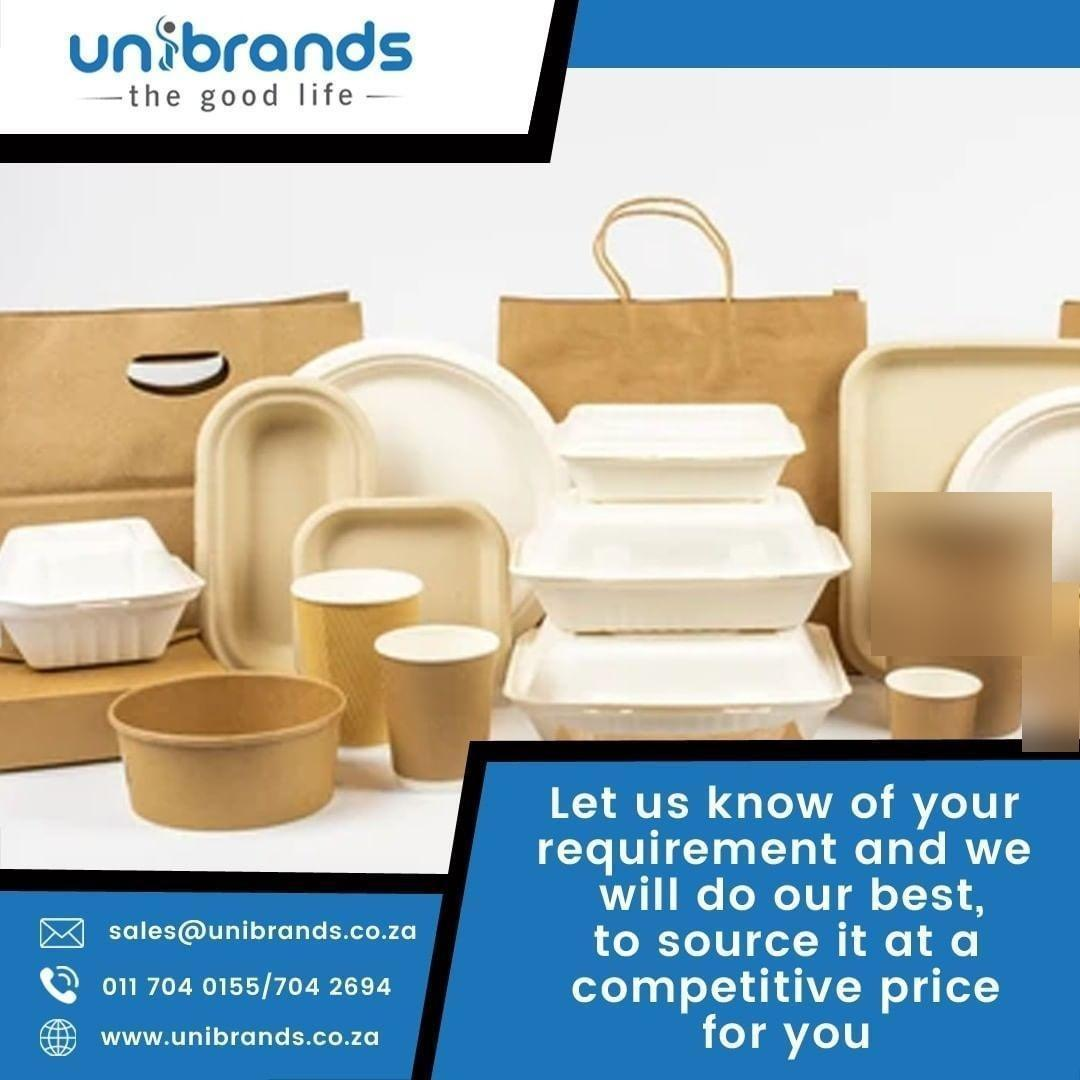cup-disposable: (291, 567, 430, 744), (374, 623, 502, 785), (883, 664, 988, 745)
